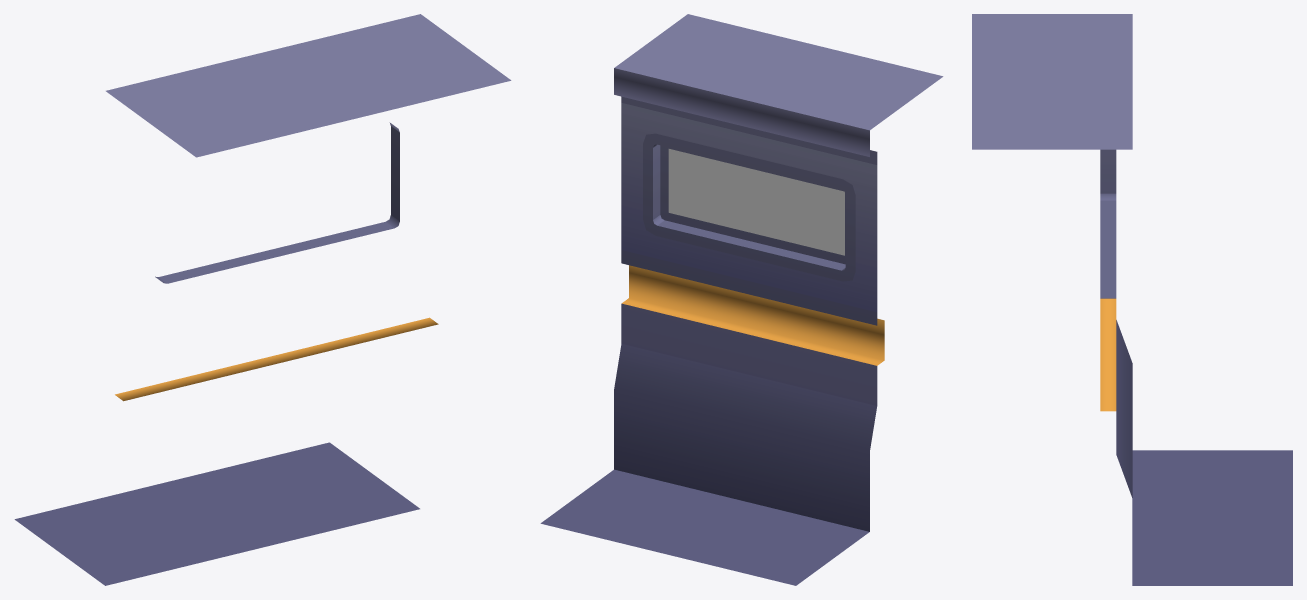
The model's file is kenney-conveyor-structure-window-wide.glb.
3 views of the same model, side by side, from view 1: azimuth 30°, elevation 25°; view 2: azimuth 150°, elevation 25°; view 3: azimuth 270°, elevation 25° (orthographic). The views are drawn at different scales.
Parts seen in each view (by area): view 1: structure-window-wide; view 2: structure-window-wide; view 3: structure-window-wide.
Part boxes in pixels (x1,y1,x2,y2): structure-window-wide: [14, 14, 511, 585]; structure-window-wide: [540, 14, 943, 585]; structure-window-wide: [972, 14, 1292, 585].
Size of the model in its own units: 2 by 3 by 2.
Materials: 1 (1 with a texture image).
